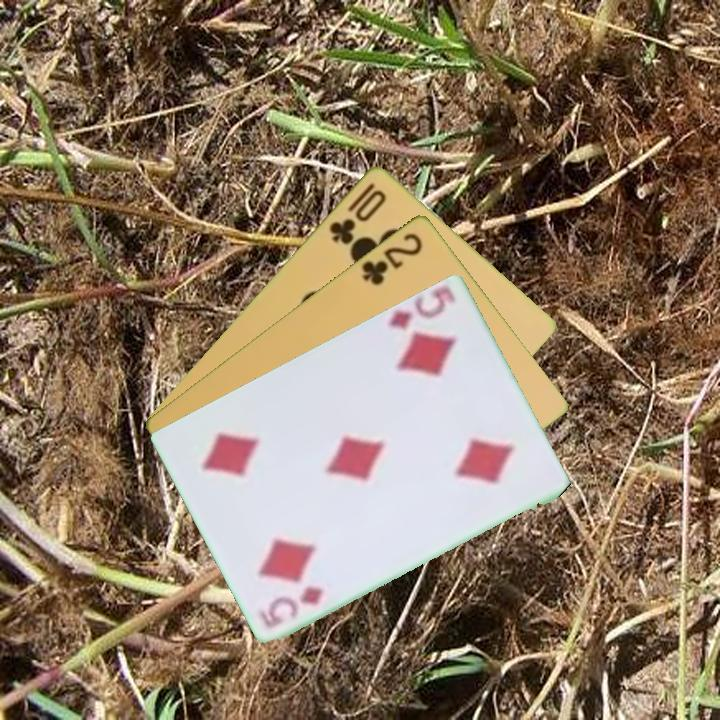10c: (325, 178, 389, 247)
2c: (358, 228, 426, 288)
5d: (258, 583, 326, 631), (384, 287, 456, 332)
